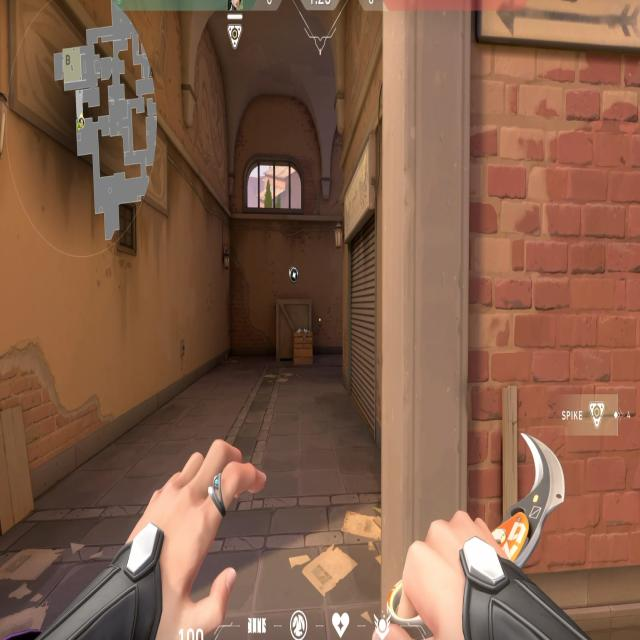B_Main_Wallbang: (272, 263, 318, 371)
Throwables: (242, 150, 306, 219)
